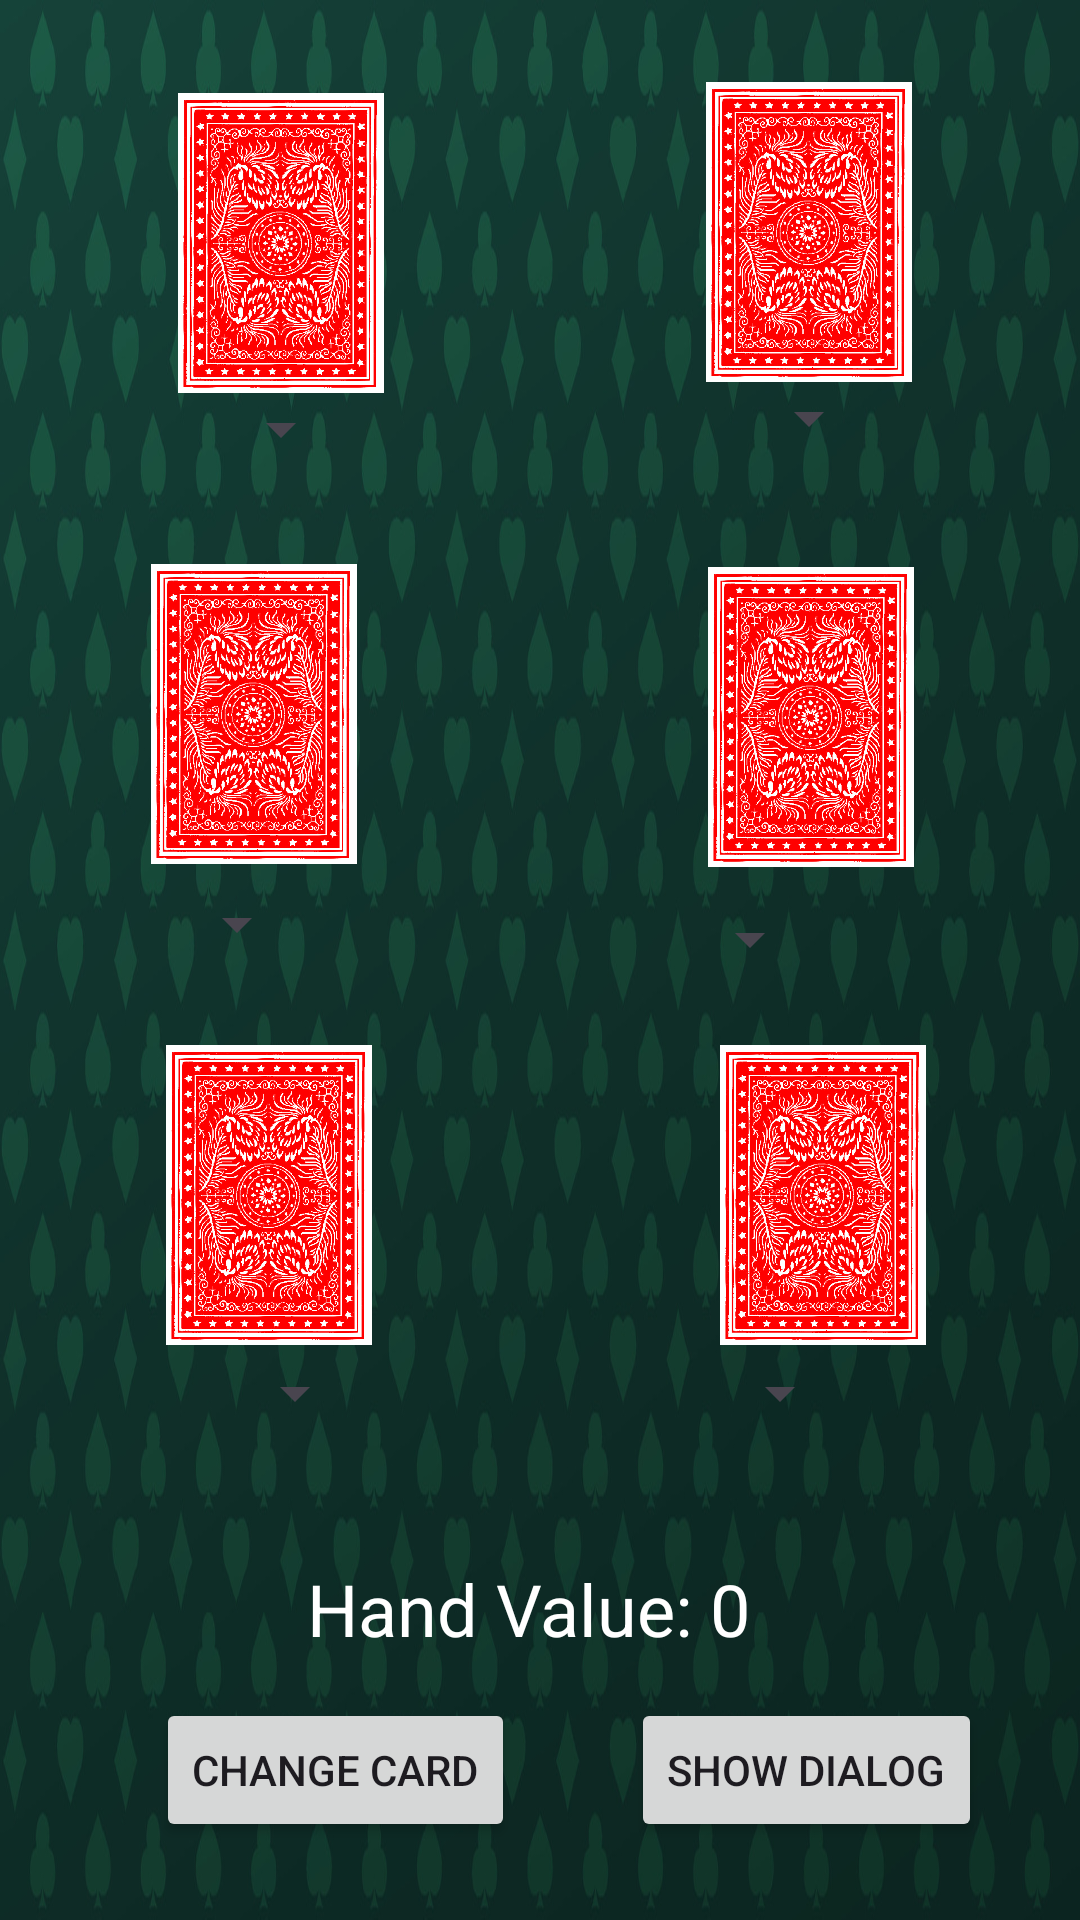

Icon bounding boxes for this 1080px×1920px phone screenshot, format [x1, y1, x2, y2]:
card back: [659, 82, 958, 382], [131, 93, 431, 393], [104, 564, 380, 864], [708, 567, 914, 867], [146, 1045, 372, 1345], [720, 1045, 926, 1345]
